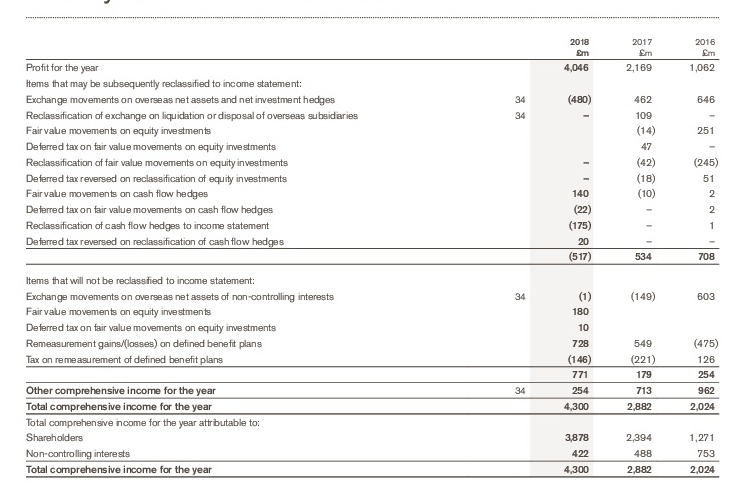table: (0, 0, 741, 495)
